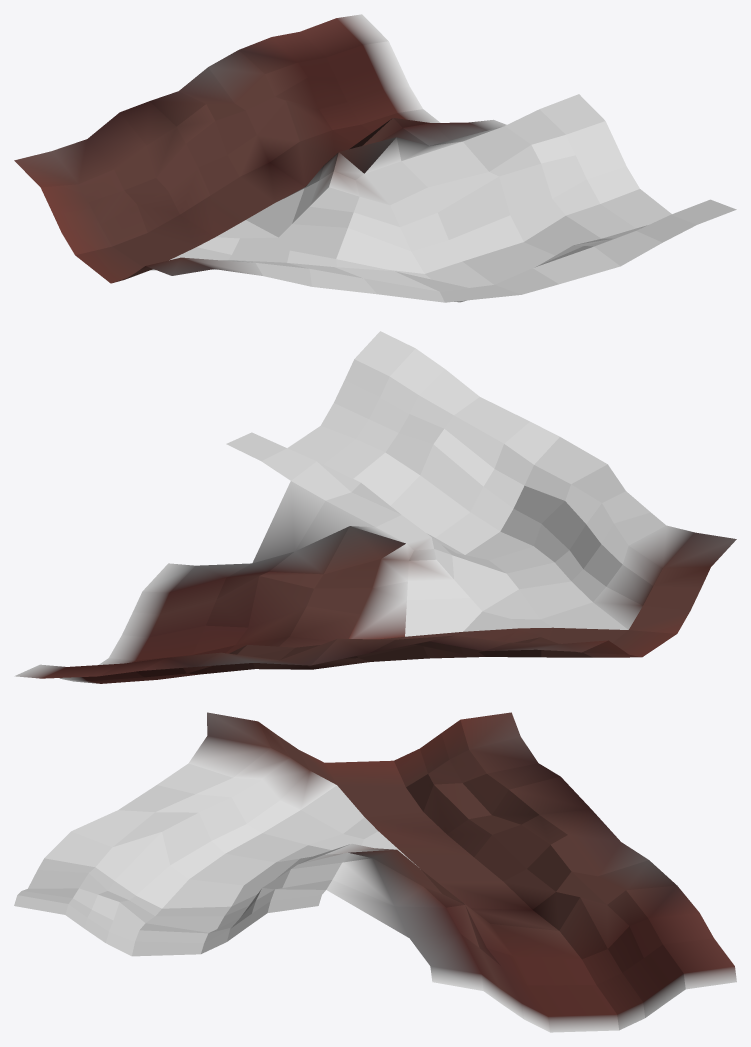
File: terrainBigBend.fbx
The picture shows the model from 3 angles, top to bottom: view 1: azimuth 30°, elevation 25°; view 2: azimuth 150°, elevation 25°; view 3: azimuth 270°, elevation 25°; orthographic projection. The views are drawn at different scales.
Visible parts, largest first — view 1: Plane; view 2: Plane; view 3: Plane.
Boxes of the visible parts, bbox=[...] form: Plane: bbox=[14, 14, 736, 302]; Plane: bbox=[14, 331, 736, 683]; Plane: bbox=[14, 712, 736, 1032].
Size of the model in its own units: 1500 by 405 by 2094.
